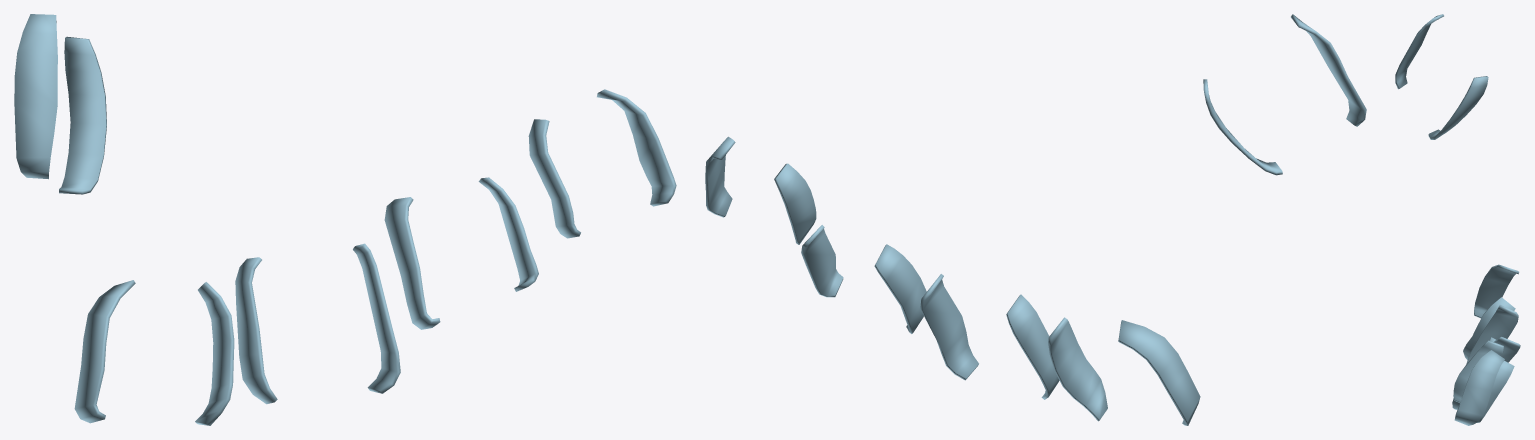
Rendered from articulacoes-collateral-metacarpophalangeal-ligaments-r.glb.
3 renders of one model, left to right at view 1: azimuth 30°, elevation 25°; view 2: azimuth 150°, elevation 25°; view 3: azimuth 270°, elevation 25°, orthographic. The views are drawn at different scales.
Parts seen in each view (by area): view 1: Collateral metacarpophalangeal ligaments.r; view 2: Collateral metacarpophalangeal ligaments.r; view 3: Collateral metacarpophalangeal ligaments.r.
Boxes of the visible parts, left/top/right/bottom form: Collateral metacarpophalangeal ligaments.r: left=14, top=14, right=676, bottom=425; Collateral metacarpophalangeal ligaments.r: left=705, top=14, right=1366, bottom=425; Collateral metacarpophalangeal ligaments.r: left=1395, top=14, right=1520, bottom=425.
Size of the model in its own units: 0.0934 by 0.0616 by 0.0238.
